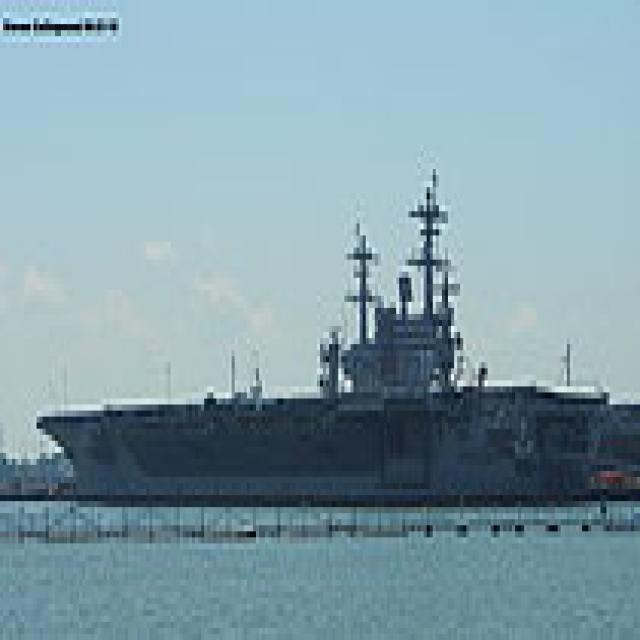Warship: (31, 151, 610, 501)
